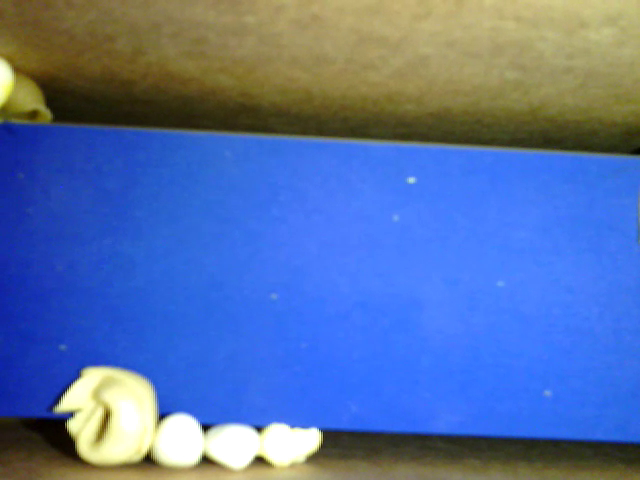shell: (3, 70, 56, 127)
tortellini: (44, 359, 161, 466)
